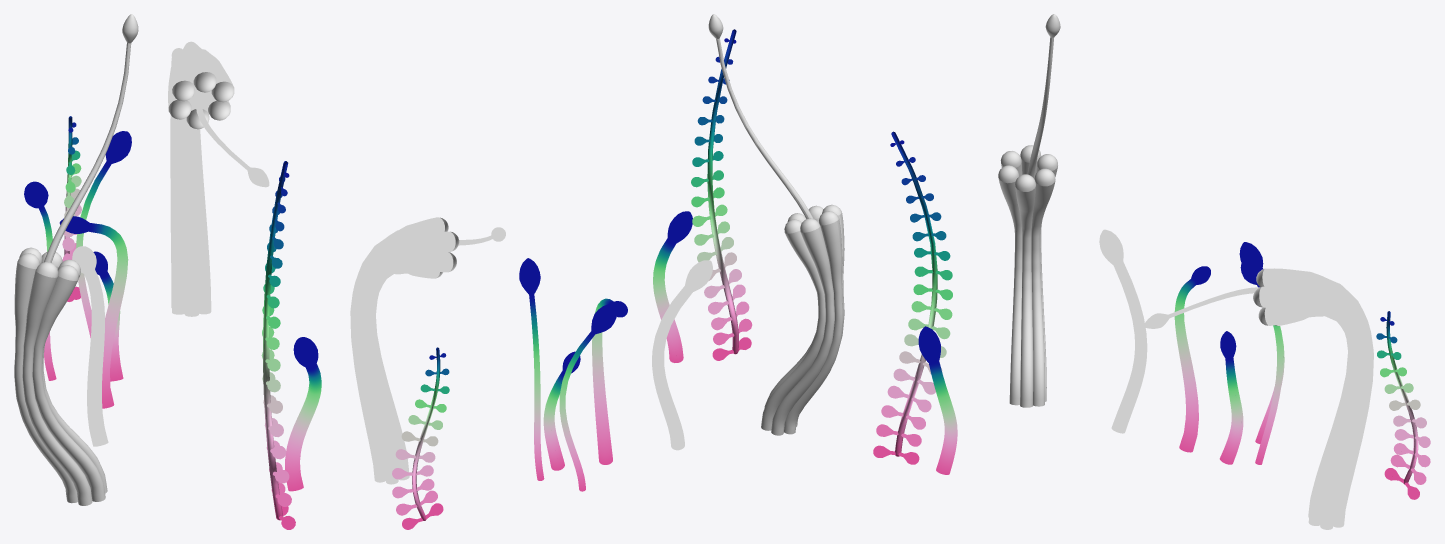
File: AllPlants_export.fbx
3 renders of one model, left to right at view 1: azimuth 30°, elevation 25°; view 2: azimuth 150°, elevation 25°; view 3: azimuth 270°, elevation 25°, orthographic. The views are drawn at different scales.
Parts seen in each view (by area): view 1: Flower_3_2, Flower_3_1, Fern_1, Kelp_1, Kelp_3, Kelp_5, Kelp_4, Fern_2, Kelp_2, Kelp_6; view 2: Flower_3_1, Flower_3_2, Fern_1, Fern_2, Kelp_1, Kelp_5, Kelp_3, Kelp_4, Kelp_2, Kelp_6; view 3: Flower_3_1, Flower_3_2, Fern_1, Fern_2, Kelp_1, Kelp_3, Kelp_5, Kelp_6, Kelp_4, Kelp_2.
Part boxes in pixels (x1,y1,x2,y2): Flower_3_2: [14, 14, 138, 505]; Flower_3_1: [168, 41, 269, 316]; Fern_1: [261, 161, 295, 529]; Kelp_1: [72, 246, 108, 446]; Kelp_3: [59, 216, 128, 408]; Kelp_5: [285, 337, 321, 491]; Kelp_4: [76, 131, 131, 337]; Fern_2: [62, 116, 81, 301]; Kelp_2: [24, 181, 56, 380]; Kelp_6: [93, 251, 123, 381]; Flower_3_1: [350, 217, 505, 484]; Flower_3_2: [708, 14, 844, 435]; Fern_1: [691, 29, 752, 360]; Fern_2: [392, 347, 449, 529]; Kelp_1: [652, 260, 712, 450]; Kelp_5: [653, 211, 692, 362]; Kelp_3: [592, 298, 627, 464]; Kelp_4: [519, 258, 544, 480]; Kelp_2: [559, 304, 617, 491]; Kelp_6: [543, 351, 580, 470]; Flower_3_1: [1143, 268, 1373, 529]; Flower_3_2: [998, 14, 1060, 407]; Fern_1: [873, 131, 952, 464]; Fern_2: [1376, 311, 1430, 499]; Kelp_1: [1099, 229, 1147, 433]; Kelp_3: [1174, 266, 1210, 452]; Kelp_5: [918, 326, 957, 474]; Kelp_6: [1219, 331, 1243, 464]; Kelp_4: [1240, 257, 1283, 464]; Kelp_2: [1239, 242, 1284, 443].
Bounding box in the file's own units: 393 × 477 × 571.
